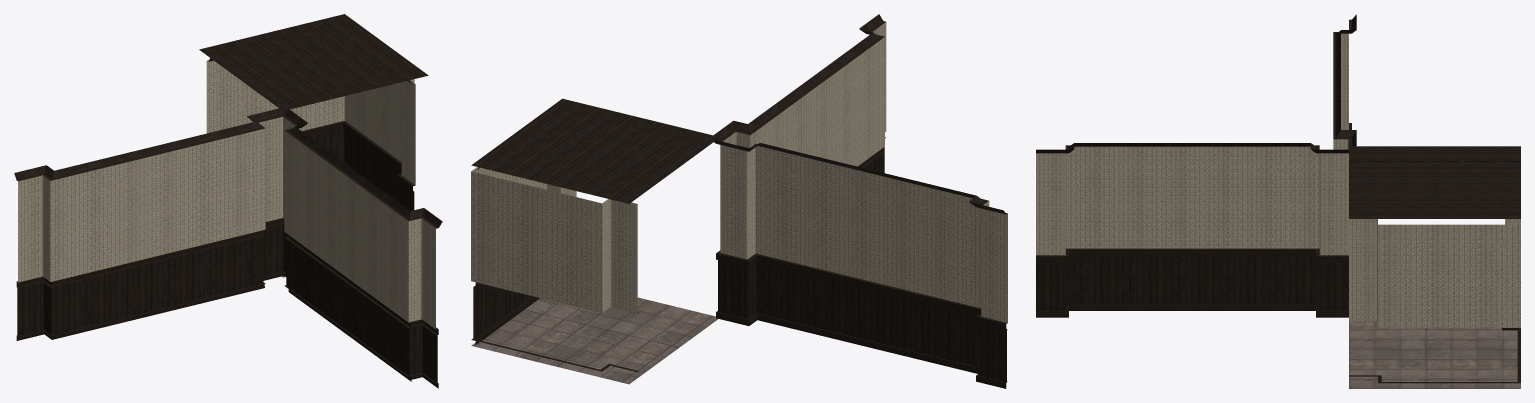
File: #LVL_Corner.fbx
3 views of the same model, side by side, from view 1: azimuth 30°, elevation 25°; view 2: azimuth 150°, elevation 25°; view 3: azimuth 270°, elevation 25° (orthographic). The views are drawn at different scales.
Visible parts, largest first — view 1: Cube_084; view 2: Cube_084; view 3: Cube_084.
Part boxes in pixels (x1=…): Cube_084: x1=14, y1=14, x2=442, y2=388; Cube_084: x1=471, y1=14, x2=1007, y2=388; Cube_084: x1=1036, y1=14, x2=1520, y2=388.
Size of the model in its own units: 31 by 12 by 31.
